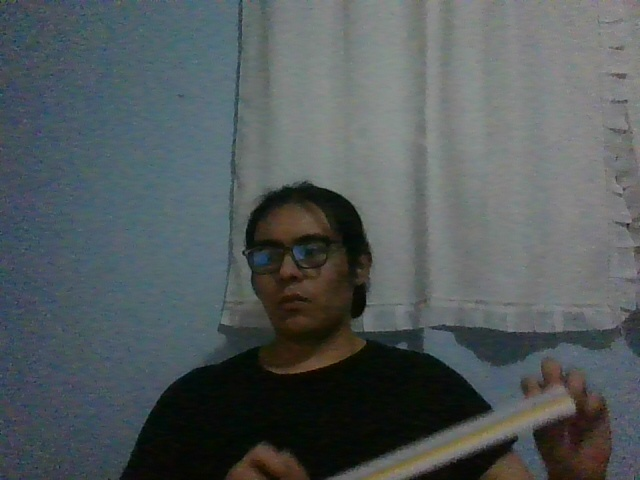regla: (327, 384, 577, 480)
